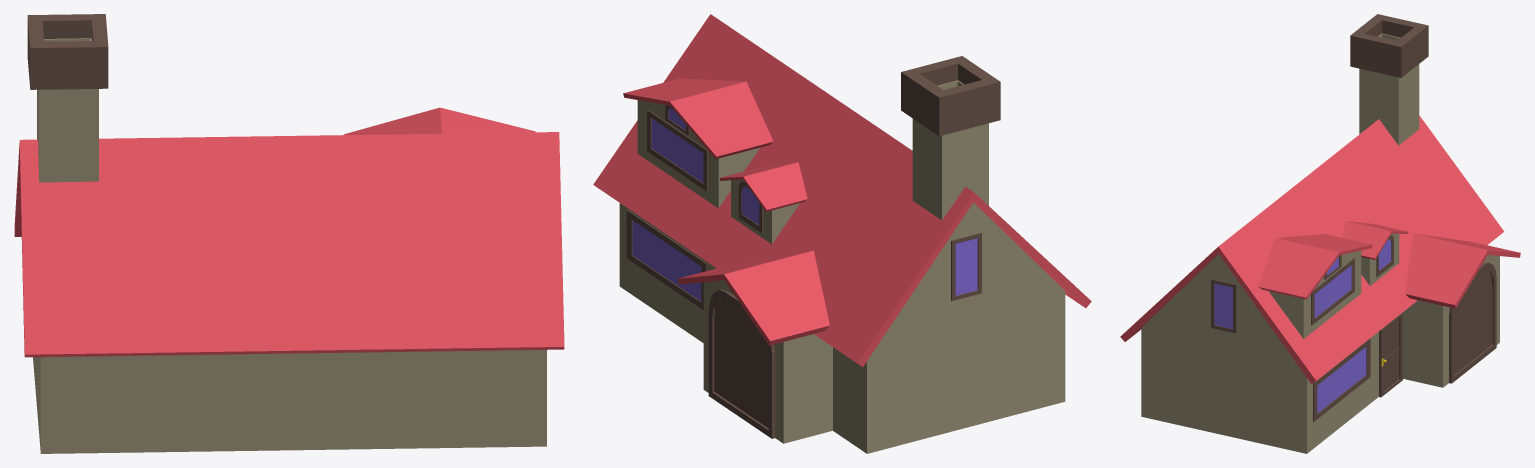
The model's file is CALLE6_CASA1_038.fbx.
3 renders of one model, left to right at view 1: azimuth 30°, elevation 25°; view 2: azimuth 150°, elevation 25°; view 3: azimuth 270°, elevation 25°, orthographic. The views are drawn at different scales.
Visible parts, largest first — view 1: CASA1.038; view 2: CASA1.038; view 3: CASA1.038.
Boxes of the visible parts, x1,y1,x2,y2 form: CASA1.038: (14, 14, 564, 453); CASA1.038: (593, 14, 1091, 453); CASA1.038: (1120, 14, 1520, 453).
Size of the model in its own units: 1114 by 734 by 975.
